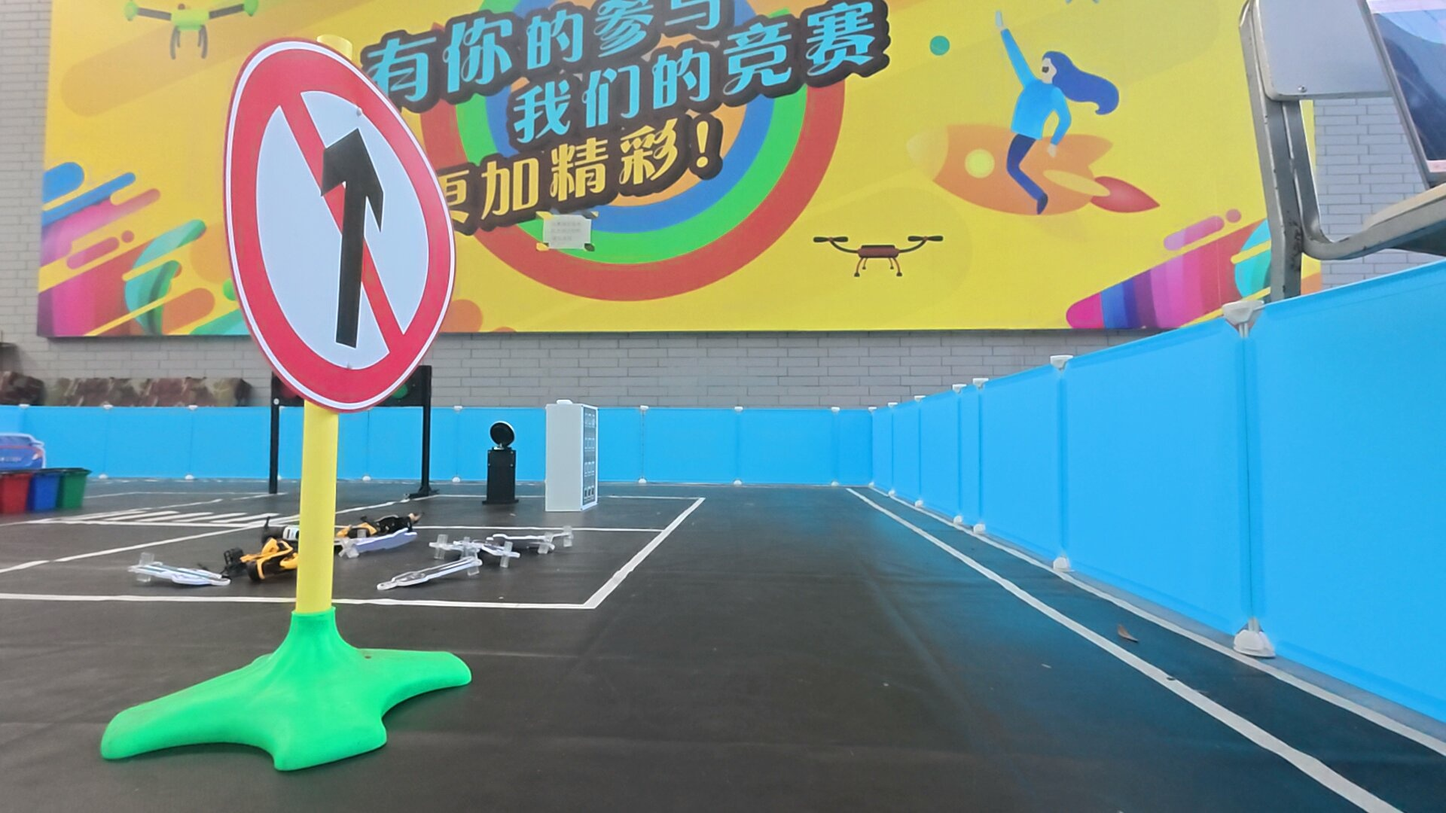obstacle: (212, 38, 468, 423)
